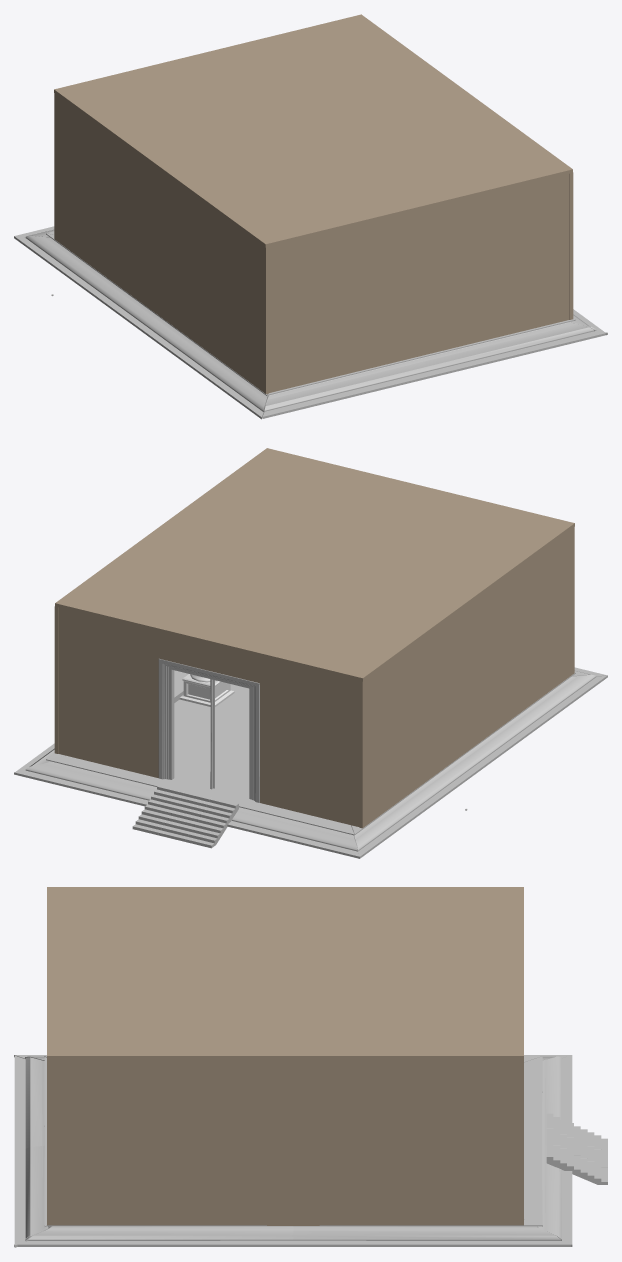
File: museum_giris.fbx
3 views of the same model, one above another, from view 1: azimuth 30°, elevation 25°; view 2: azimuth 150°, elevation 25°; view 3: azimuth 270°, elevation 25° (orthographic). The views are drawn at different scales.
Visible parts, largest first — view 1: duvar2.006, duvar2, duvar2.001, taban, duvar2.002; view 2: duvar2.006, duvar2.005, duvar2.001, taban, Cylinder_2_Mat_0.001, Line017_20.002, Line006_9.001, duvar2.002; view 3: duvar2.006, duvar2.002, taban, Line017_20.002.
Boxes of the visible parts, x1,y1,x2,y2 form: duvar2.006: (54, 14, 572, 247); duvar2: (269, 173, 569, 392); duvar2.001: (54, 93, 269, 394); taban: (14, 226, 607, 419); duvar2.002: (569, 172, 573, 319); duvar2.006: (55, 448, 574, 681); duvar2.005: (58, 607, 359, 826); duvar2.001: (359, 527, 574, 828); taban: (14, 667, 607, 858); Cylinder_2_Mat_0.001: (158, 658, 259, 802); Line017_20.002: (132, 784, 238, 848); Line006_9.001: (179, 674, 234, 706); duvar2.002: (54, 606, 58, 753); duvar2.006: (47, 887, 523, 1059); duvar2.002: (47, 1059, 523, 1225); taban: (14, 1055, 572, 1247); Line017_20.002: (546, 1113, 607, 1184).
Bounding box in the file's own units: 56843 × 24273 × 68074.
